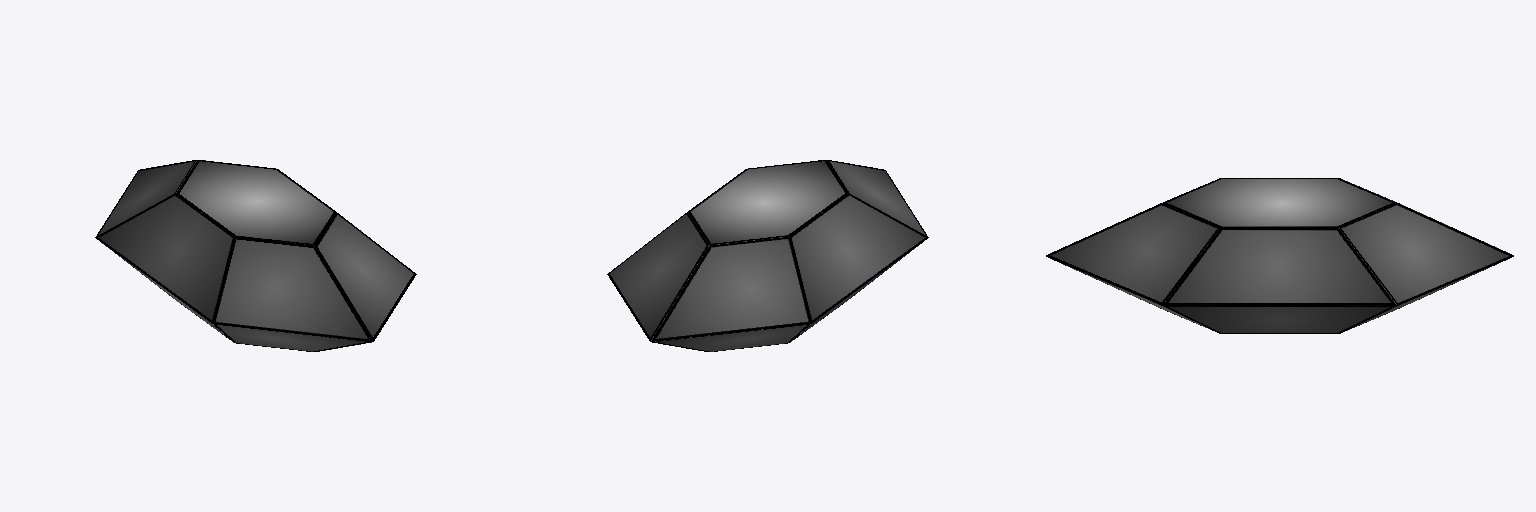
3 renders of one model, left to right at view 1: azimuth 30°, elevation 25°; view 2: azimuth 150°, elevation 25°; view 3: azimuth 270°, elevation 25°, orthographic.
Visible parts, largest first — view 1: Cube.001; view 2: Cube.001; view 3: Cube.001.
Part boxes in pixels (x1,y1,x2,y2): Cube.001: (95,160,416,351); Cube.001: (607,160,928,351); Cube.001: (1046,178,1513,333).
Size of the model in its own units: 4 by 2 by 8.
1 materials, 1 textured.